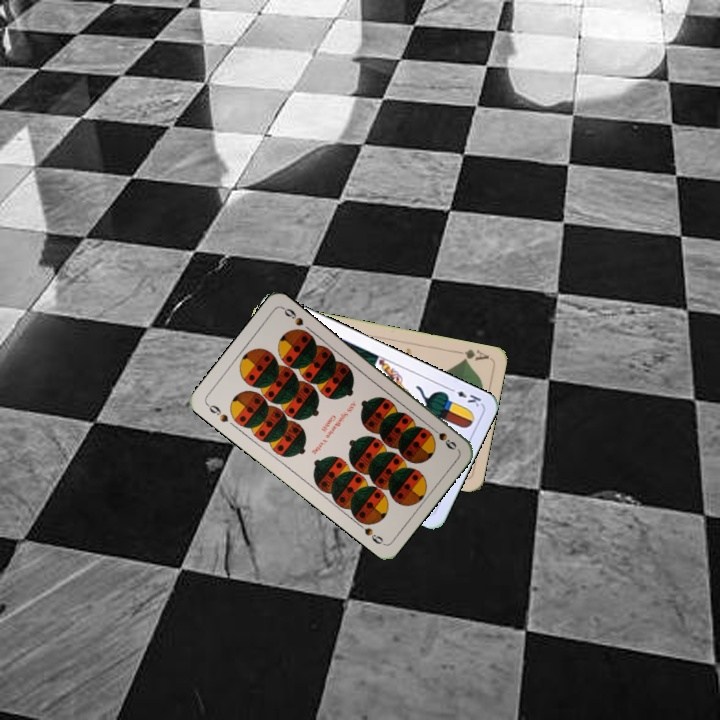EK: (445, 383, 484, 409)
GA: (451, 345, 492, 364)
S9: (425, 422, 459, 452), (203, 400, 231, 425)
